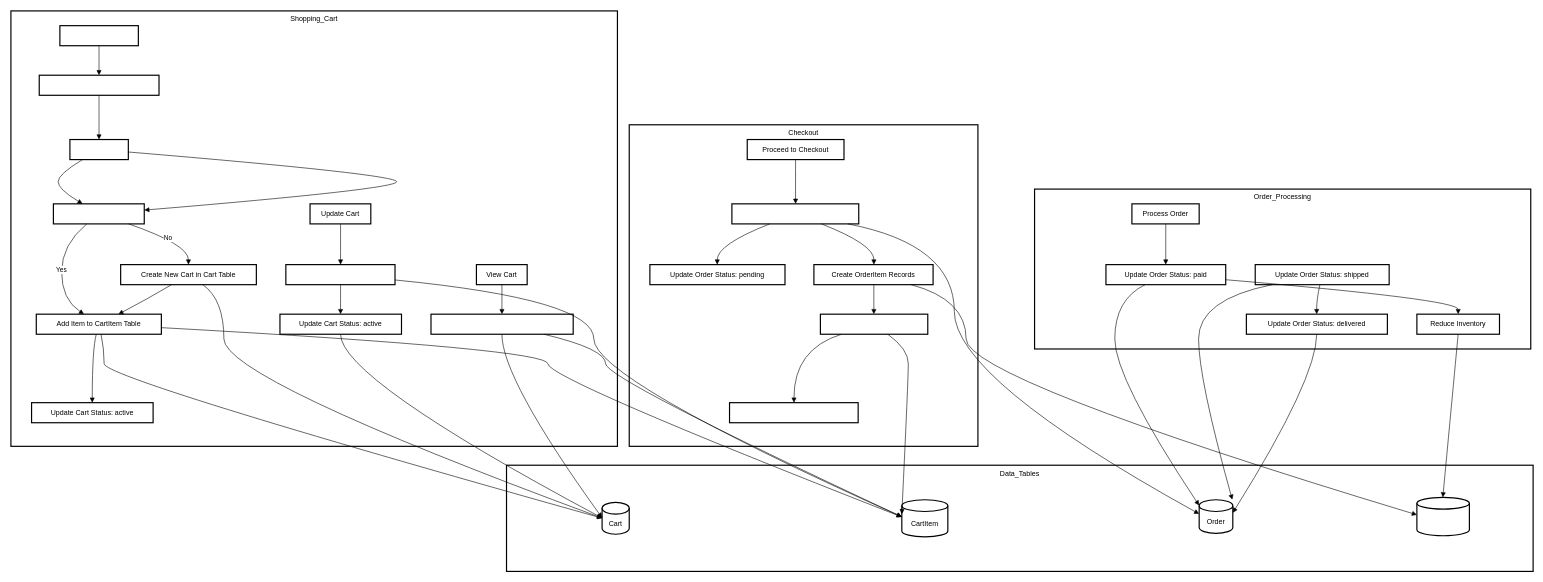
The diagram is 1543 pixels wide and 582 high, and some of its shapes have lost their labels. Here are the shapes that lost their labels. From the top down, the centre of each, then its label:
At pixel 99 35: "Browse Products".
At pixel 98 85: "Select Product & Quantity".
At pixel 99 149: "Add to Cart".
At pixel 99 213: "Check if Cart Exists".
At pixel 795 213: "Create Order in Order Table".
At pixel 340 274: "Modify CartItem Record".
At pixel 501 324: "Query Cart and CartItem Tables".
At pixel 874 324: "Clear CartItem Records".
At pixel 793 412: "Update Cart Status: ordered".
At pixel 1443 516: "OrderItem".
